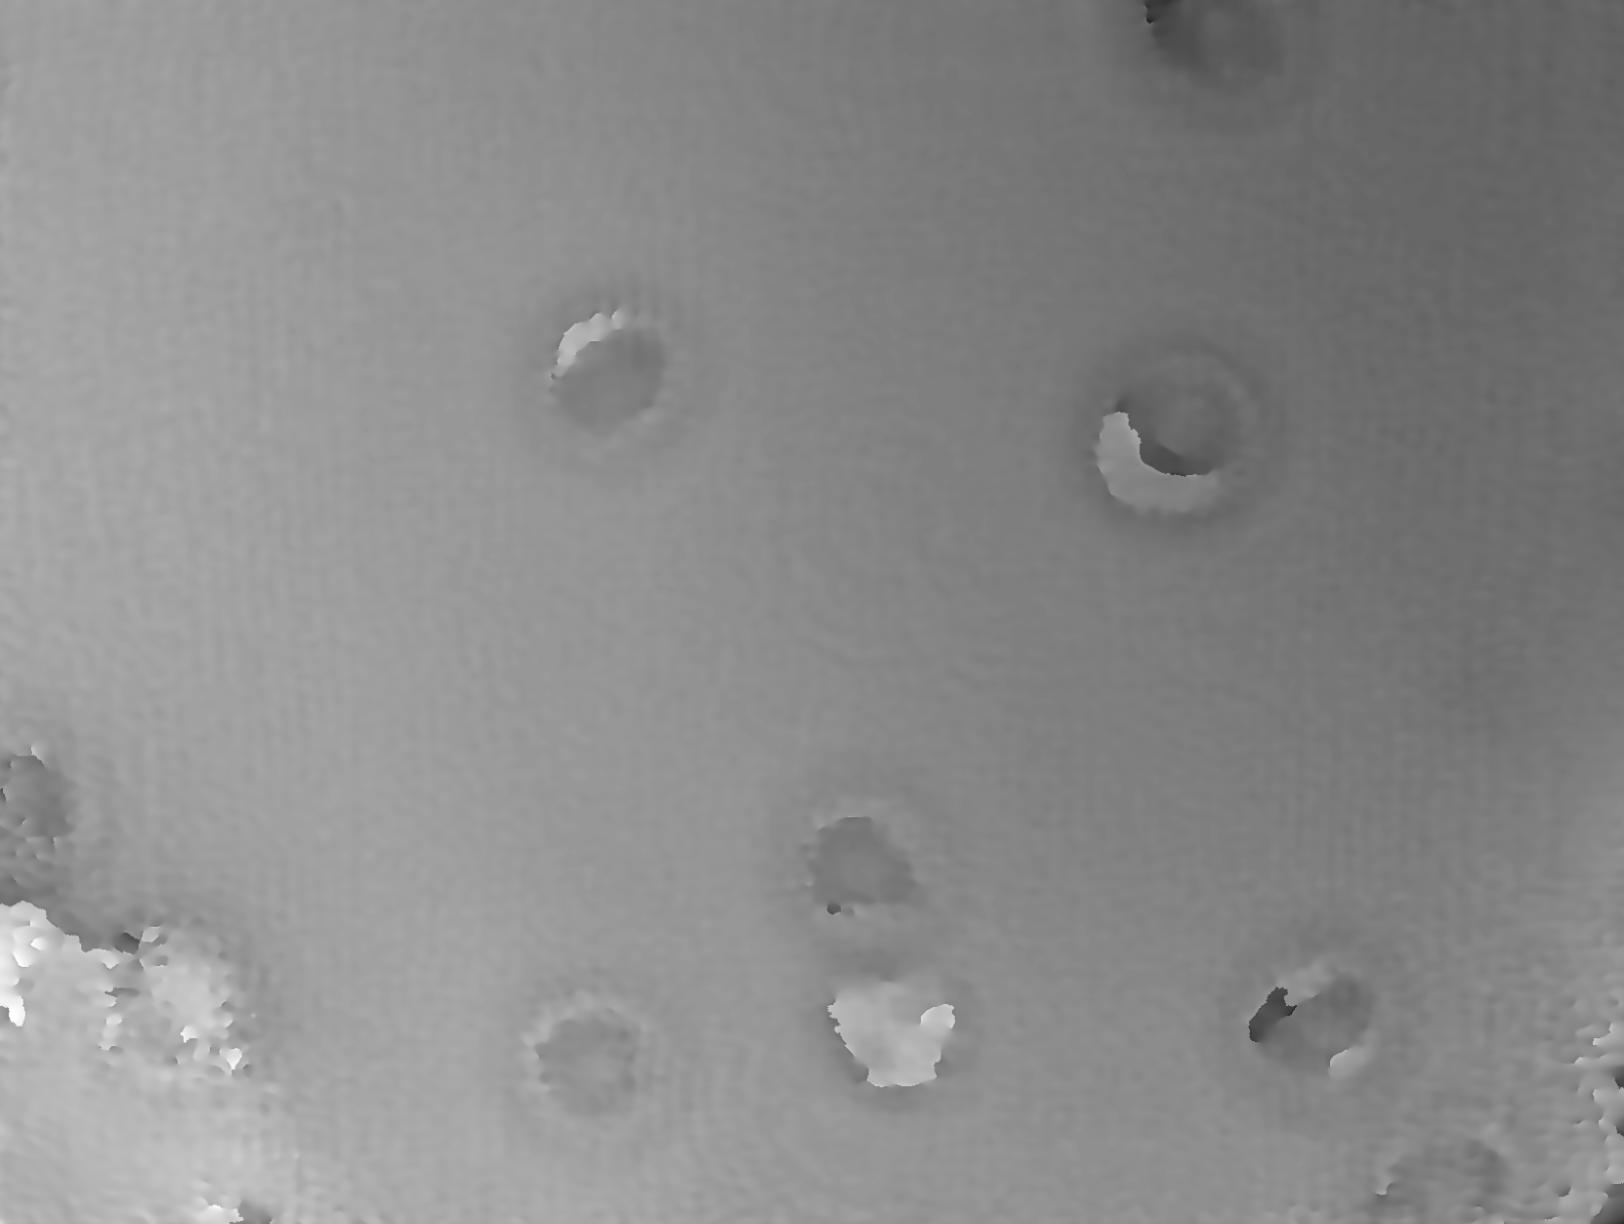cell: (1053, 314, 1304, 563), (471, 959, 726, 1192), (504, 262, 734, 501), (759, 750, 982, 990), (1206, 909, 1432, 1146), (1078, 1, 1350, 154)
